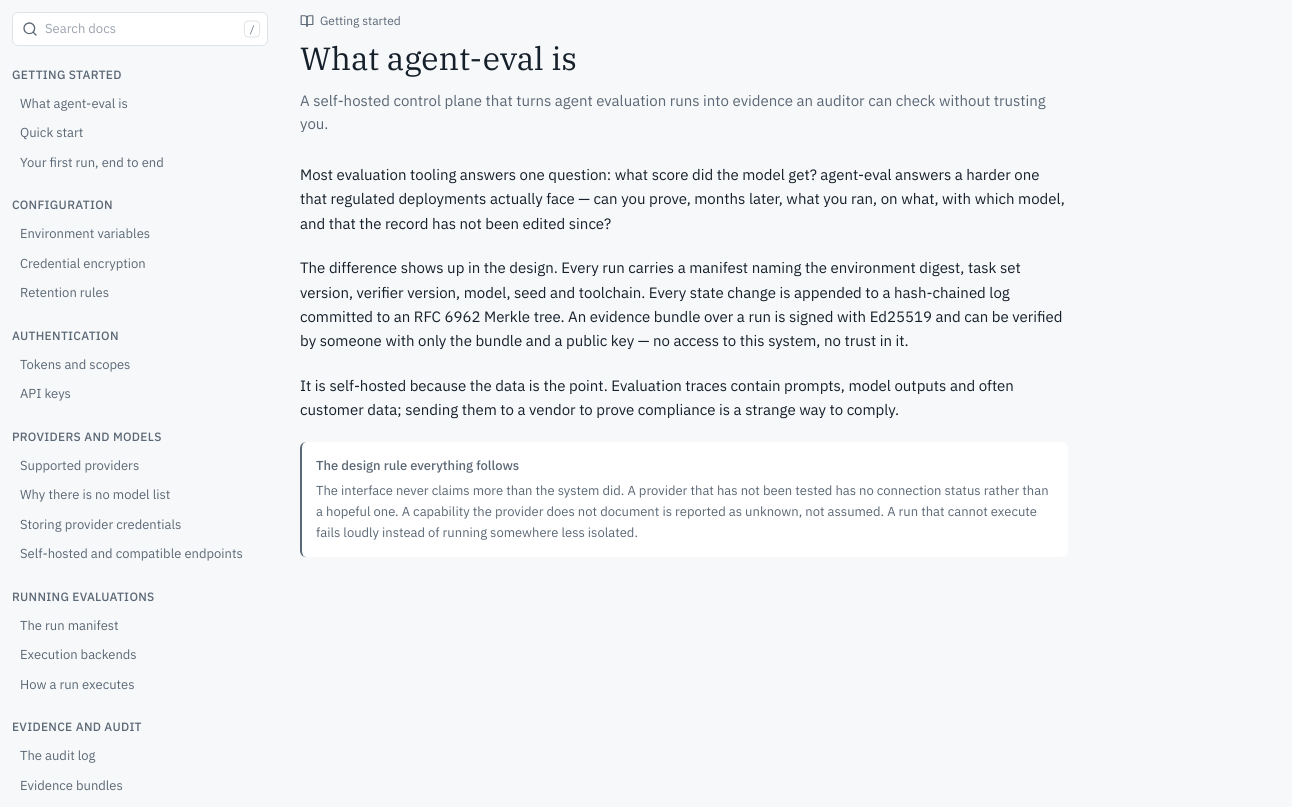
Test: docs page › searches across prose, not just titles
The image size is (1292, 807).
This phrase appears in body text, in a section whose title does not.
Type "shell history" into the search field named "Search documentation".
click(140, 29); type("shell history")  # box [12, 12, 268, 46]
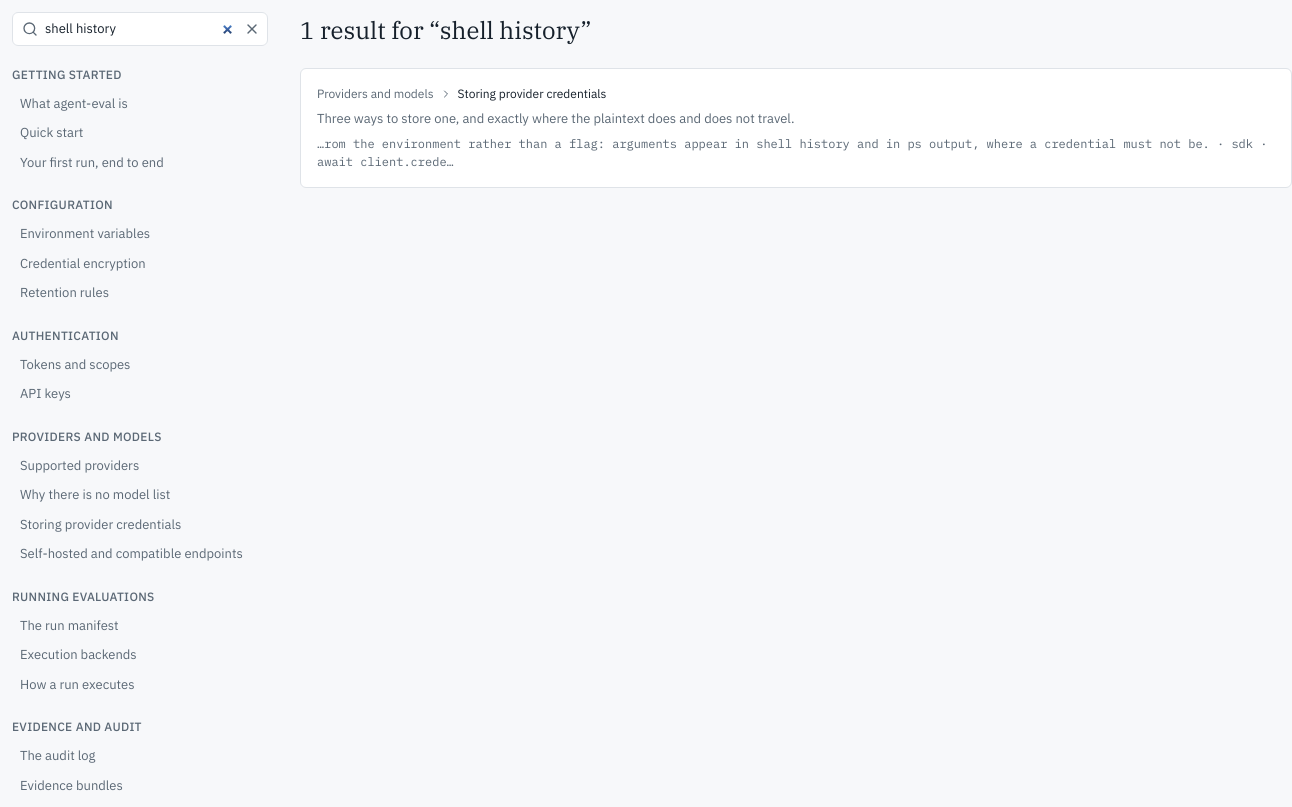
Check: the heading "1 result for “shell history”" is shown, box [300, 14, 592, 46]
Check: the text "Storing provider credentials" is shown, box [458, 85, 606, 103]
